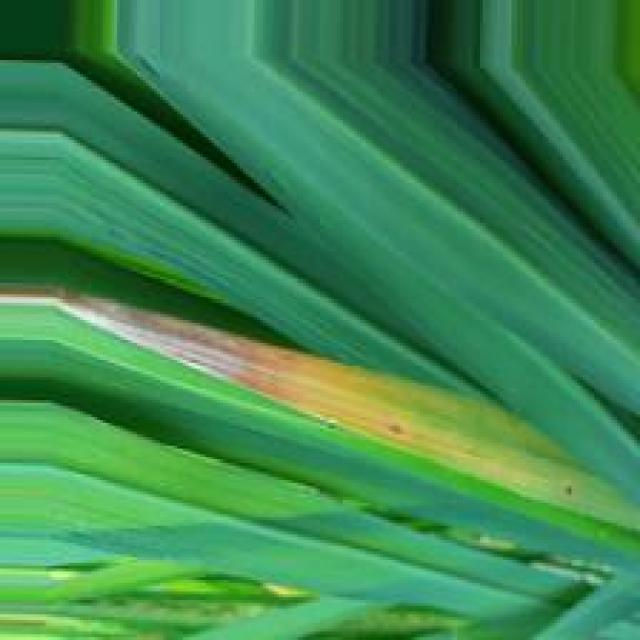Leaf_Scald: (53, 290, 298, 406)
